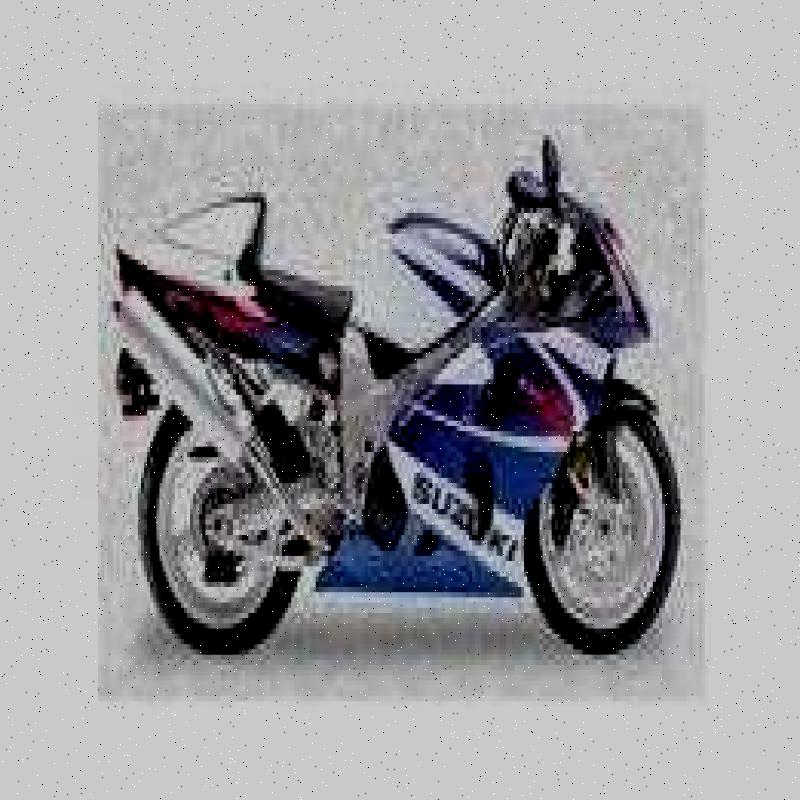bike: (116, 126, 693, 664)
